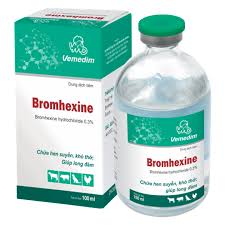Bromhexin: (145, 154, 199, 166), (31, 102, 93, 107)
